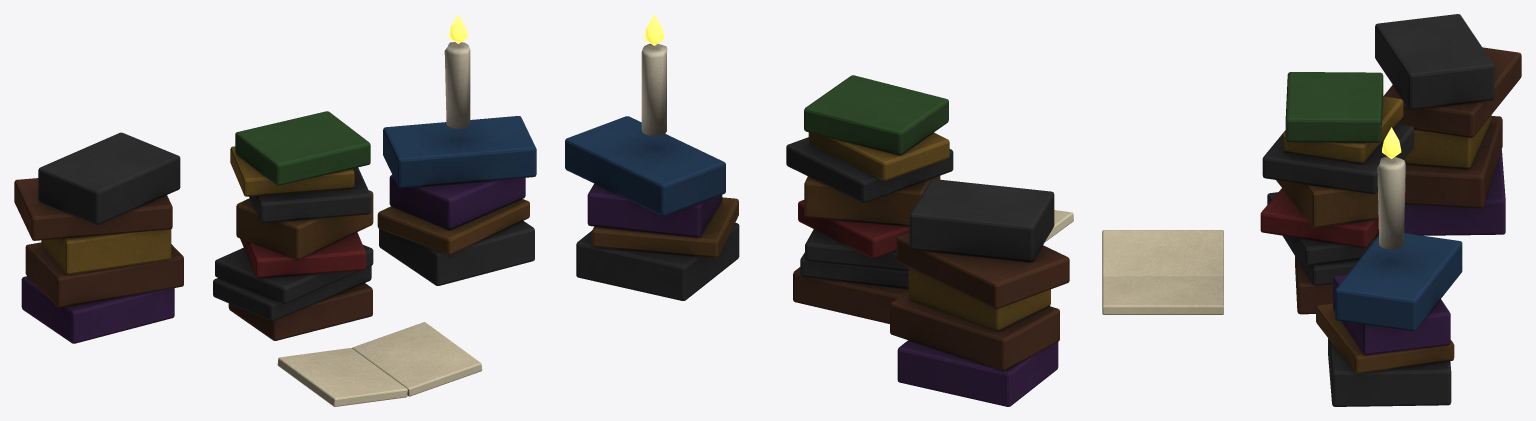
File: dg_pilha_livros.glb
The picture shows the model from 3 angles, left to right: view 1: azimuth 30°, elevation 25°; view 2: azimuth 150°, elevation 25°; view 3: azimuth 270°, elevation 25°; orthographic projection. The views are drawn at different scales.
Parts seen in each view (by area): view 1: dg_pilha_livros_tronco; view 2: dg_pilha_livros_tronco; view 3: dg_pilha_livros_tronco, vela_ch.
Boxes of the visible parts, left/top/right/bottom form: dg_pilha_livros_tronco: left=14, top=42, right=536, bottom=406; dg_pilha_livros_tronco: left=565, top=43, right=1073, bottom=406; dg_pilha_livros_tronco: left=1102, top=14, right=1521, bottom=406; vela_ch: left=1382, top=127, right=1401, bottom=158.
Bounding box in the file's own units: 1.17 × 0.555 × 0.8263.
Materials: 2 (1 with a texture image).
